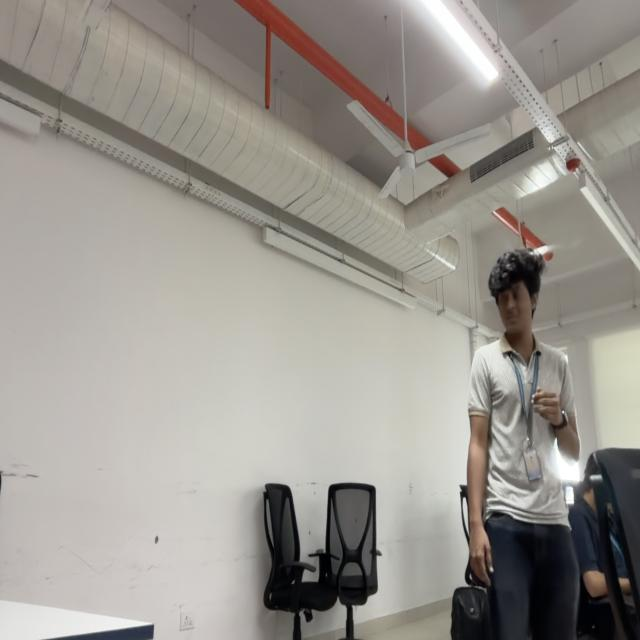kshitij: (488, 252, 545, 338)
